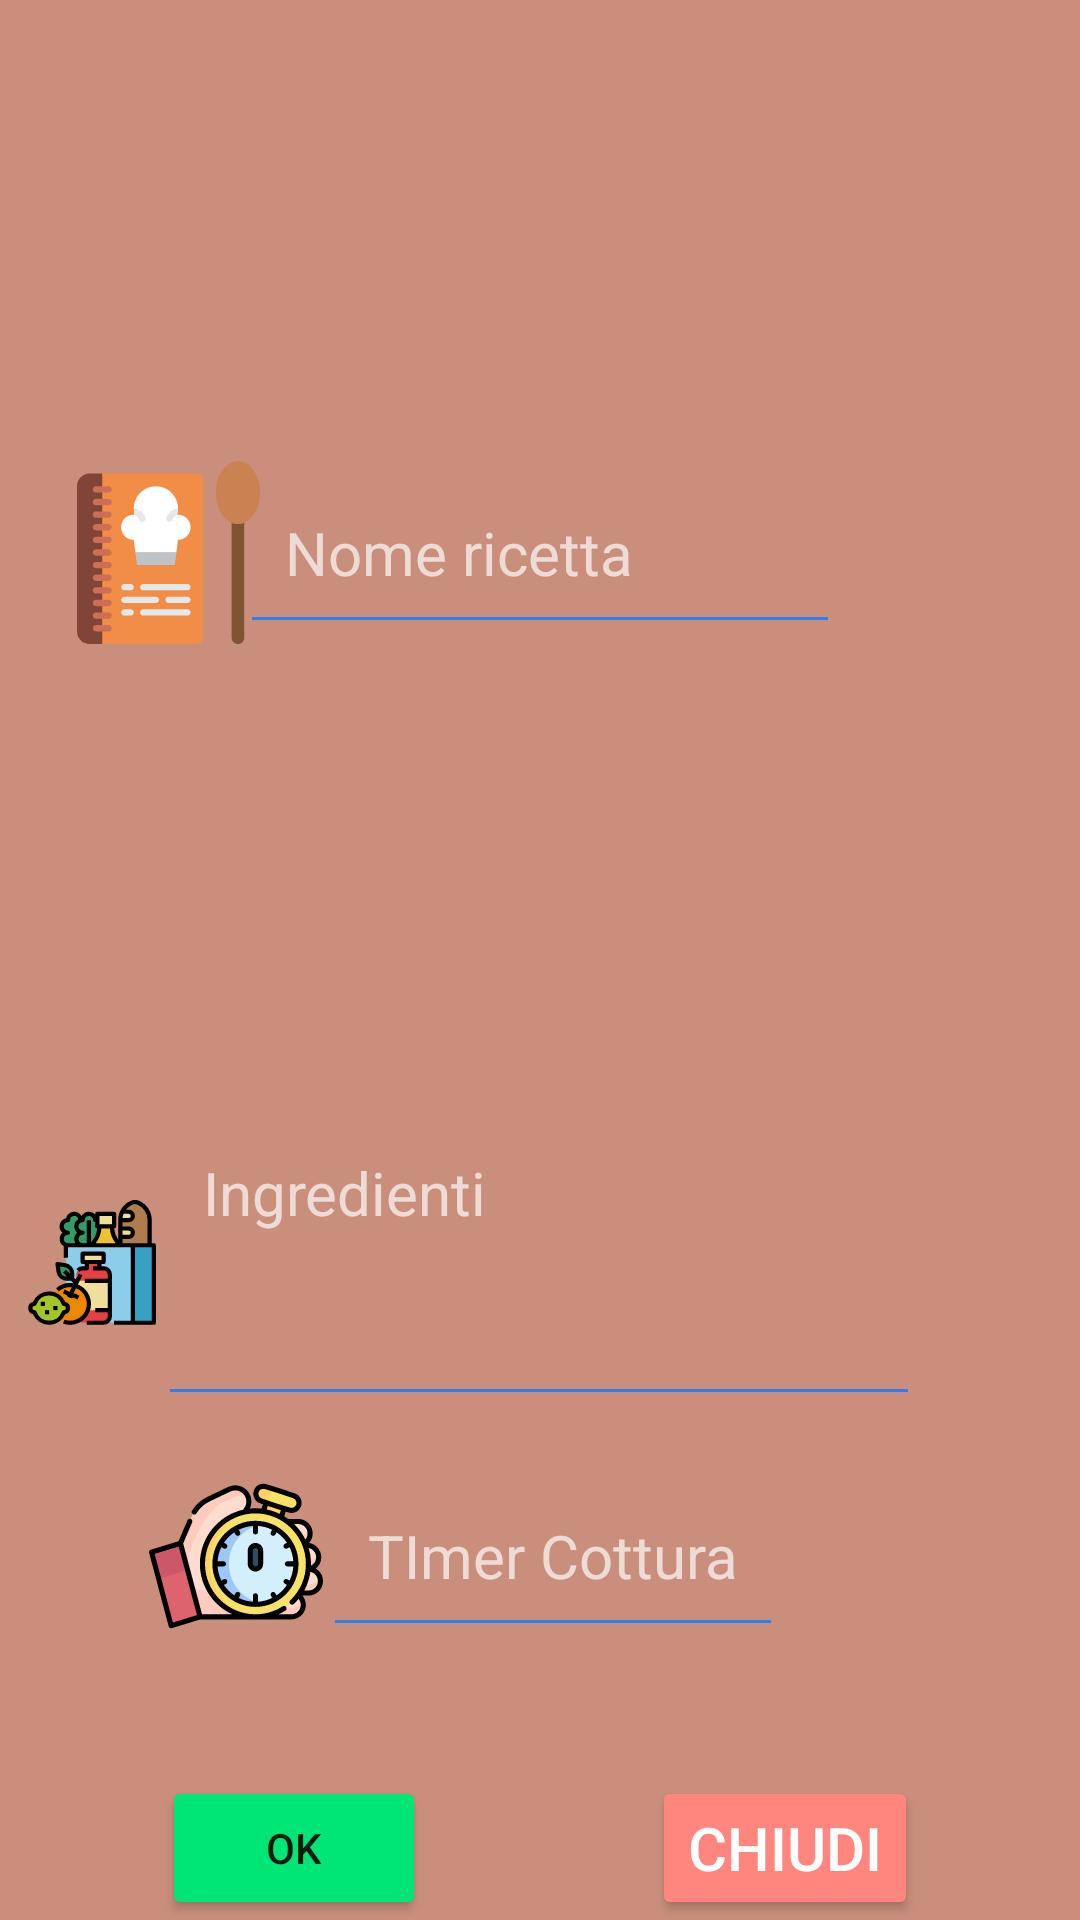

Where to tap for icons on this 1080w x 1920h app screen, as [x,y]:
grocery: [92,1262]
recipe book: [168,552]
stopwatch: [236,1556]
